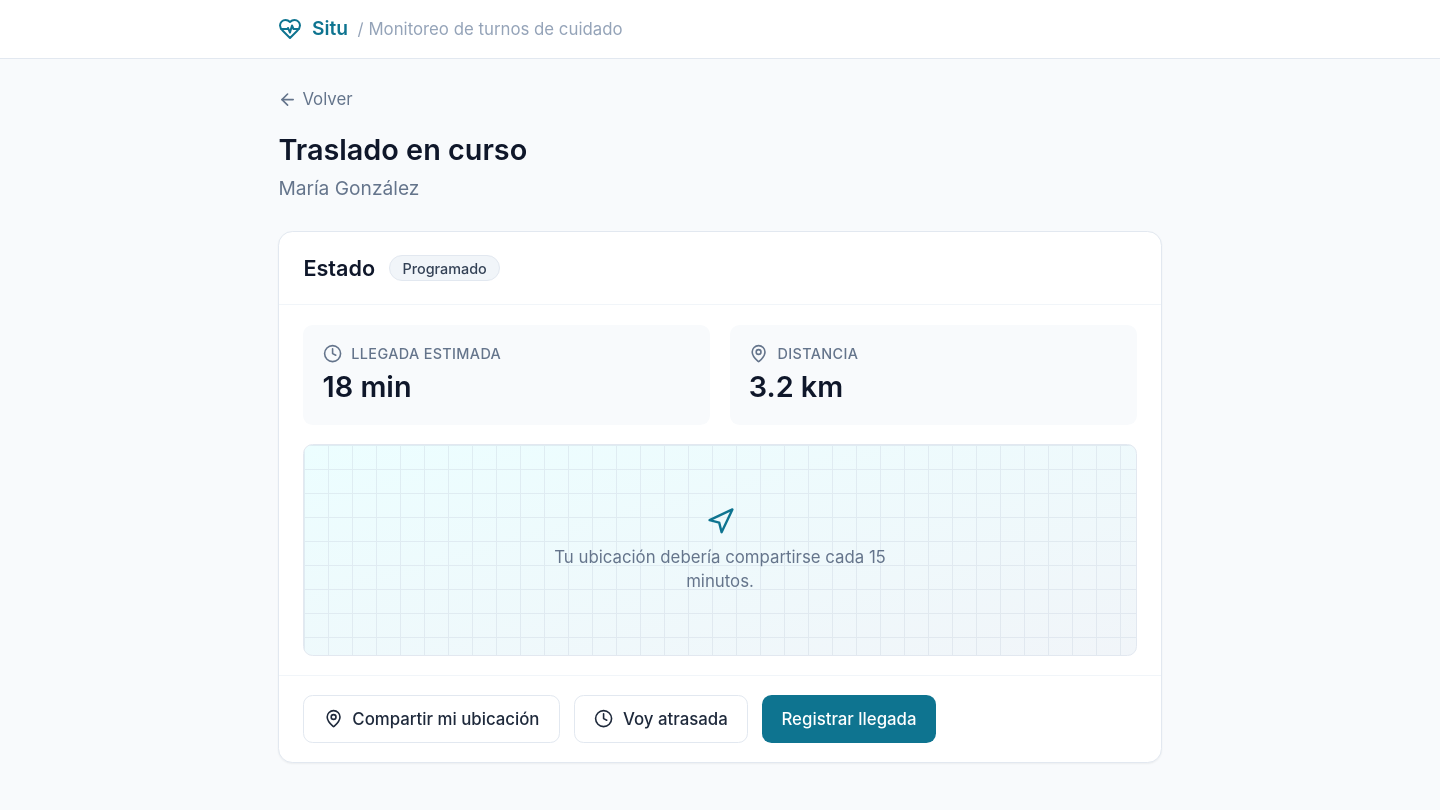
Test: TripTracking › reports running late from the location dialog
The width and height of the screenshot is (1440, 810).
Click the button "Compartir mi ubicación": (432, 719) [303,695,560,743]
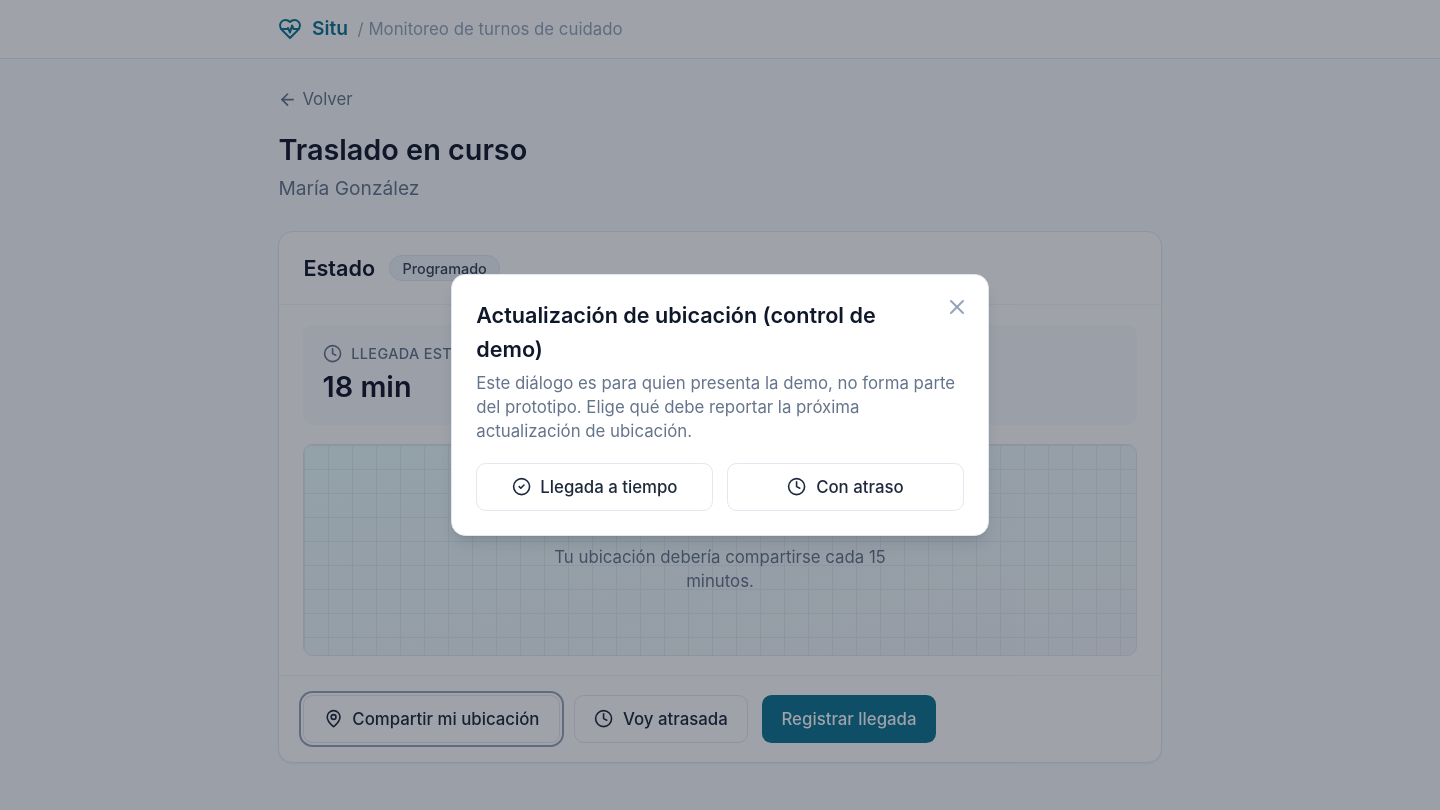
Click the button "Con atraso": (846, 487) [727,463,964,511]
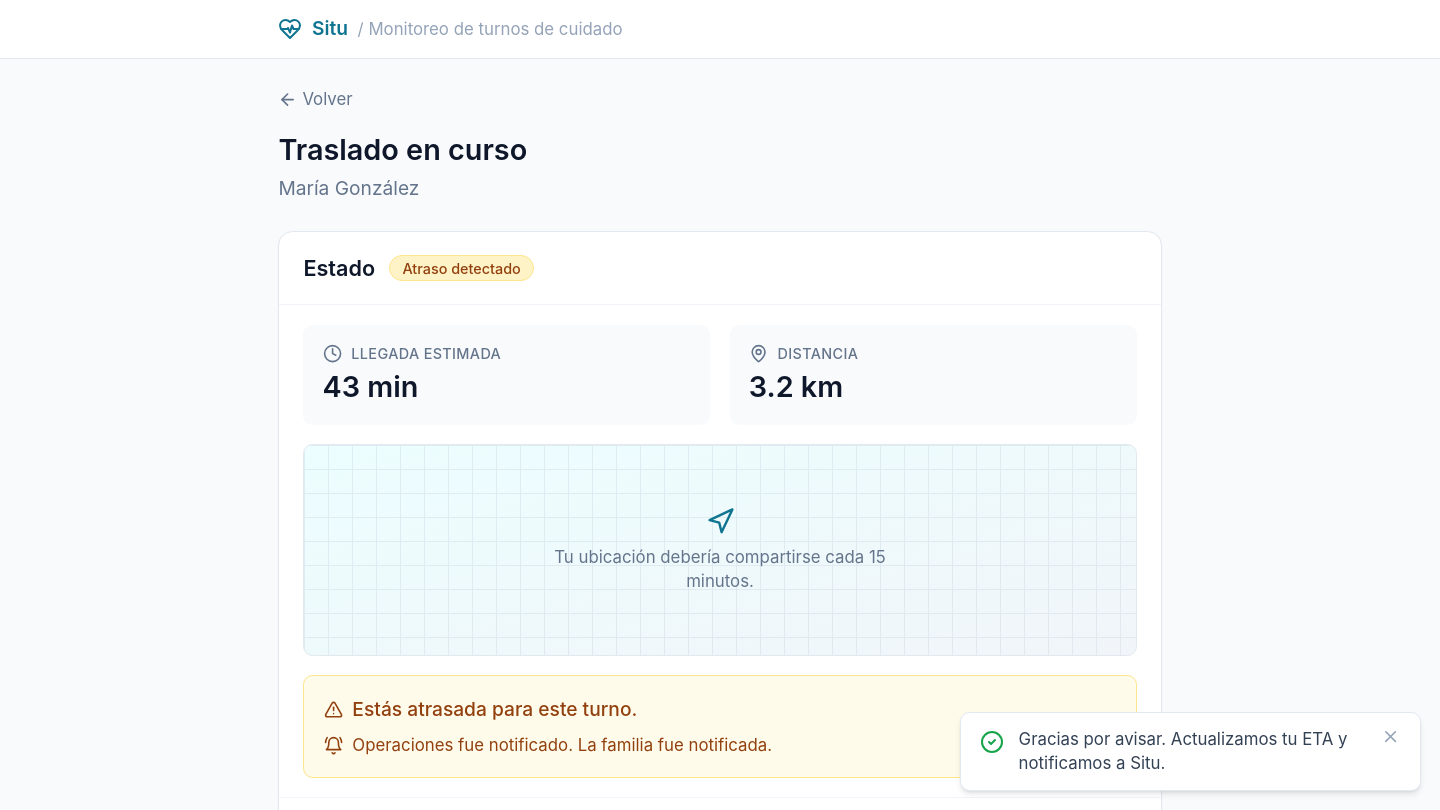
Check: the text "Estás atrasada para este turno." is shown, box [324,697,637,721]
